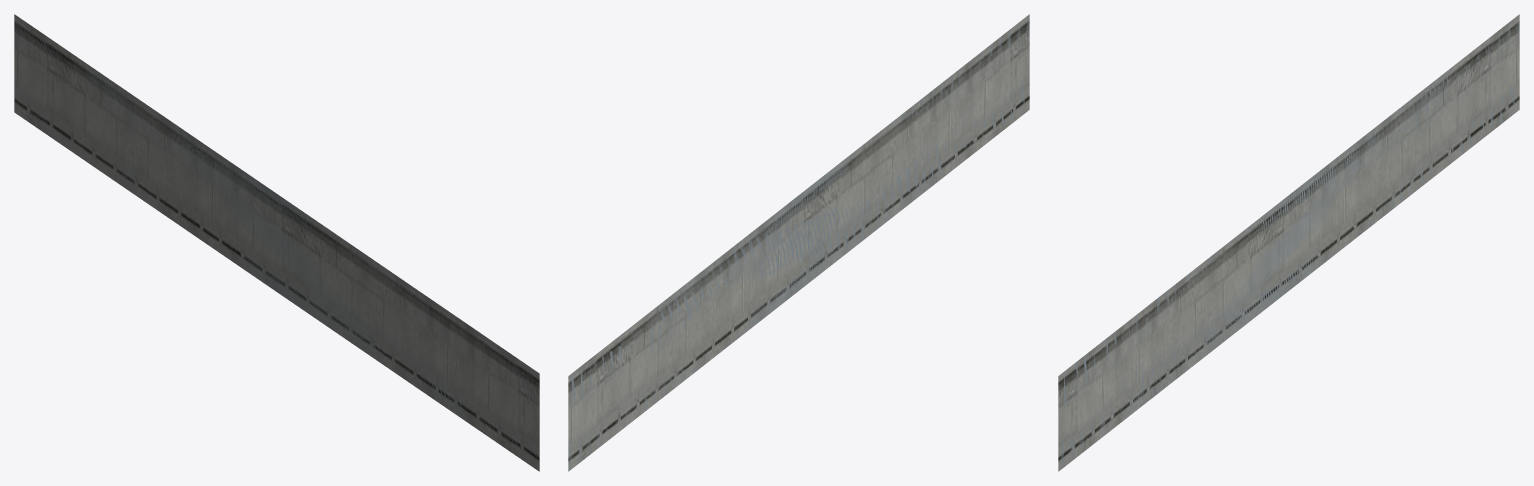
Rendered from 人民英雄纪念碑21.dae.
3 renders of one model, left to right at view 1: azimuth 30°, elevation 25°; view 2: azimuth 150°, elevation 25°; view 3: azimuth 330°, elevation 25°, orthographic. The views are drawn at different scales.
Visible parts, largest first — view 1: SketchUp; view 2: SketchUp; view 3: SketchUp.
Part boxes in pixels (<box>): SketchUp: <box>14,14,539,471</box>; SketchUp: <box>568,14,1029,471</box>; SketchUp: <box>1058,14,1519,471</box>.
Size of the model in its own units: 19.37 by 652 by 70.87.
